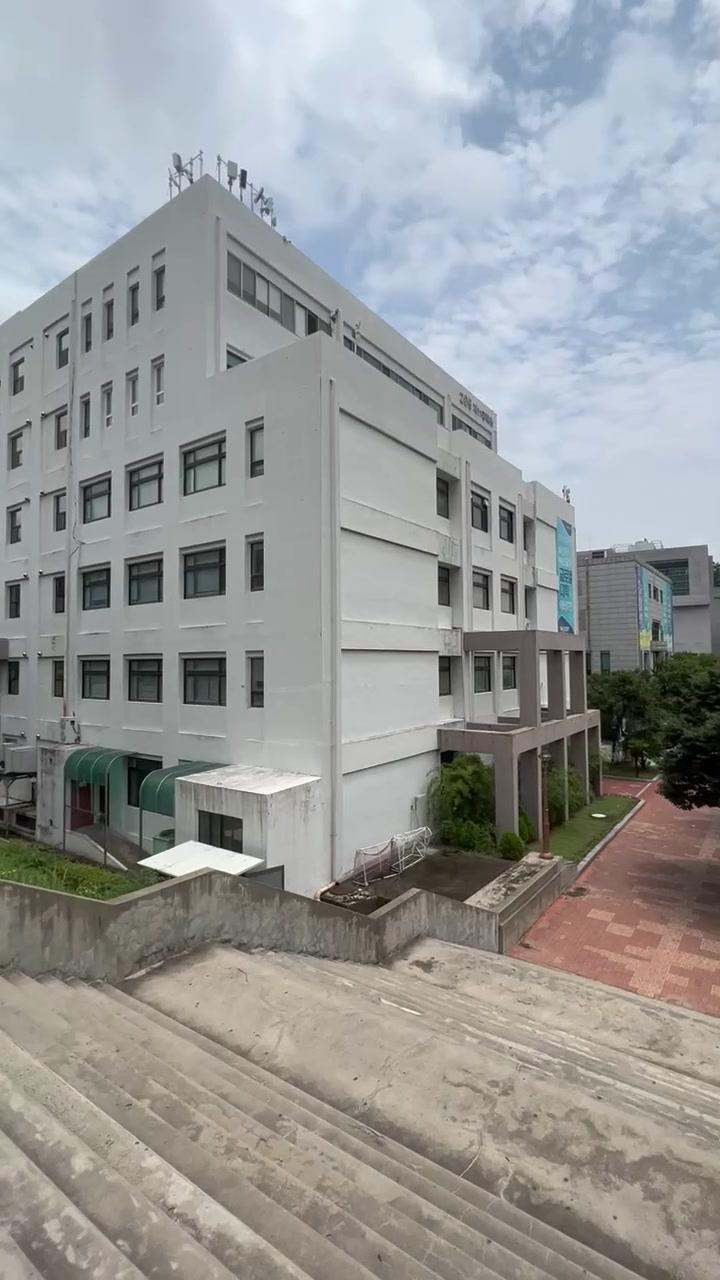building: (14, 180, 638, 844)
